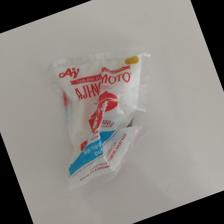Ajinomoto: (47, 45, 158, 189)
